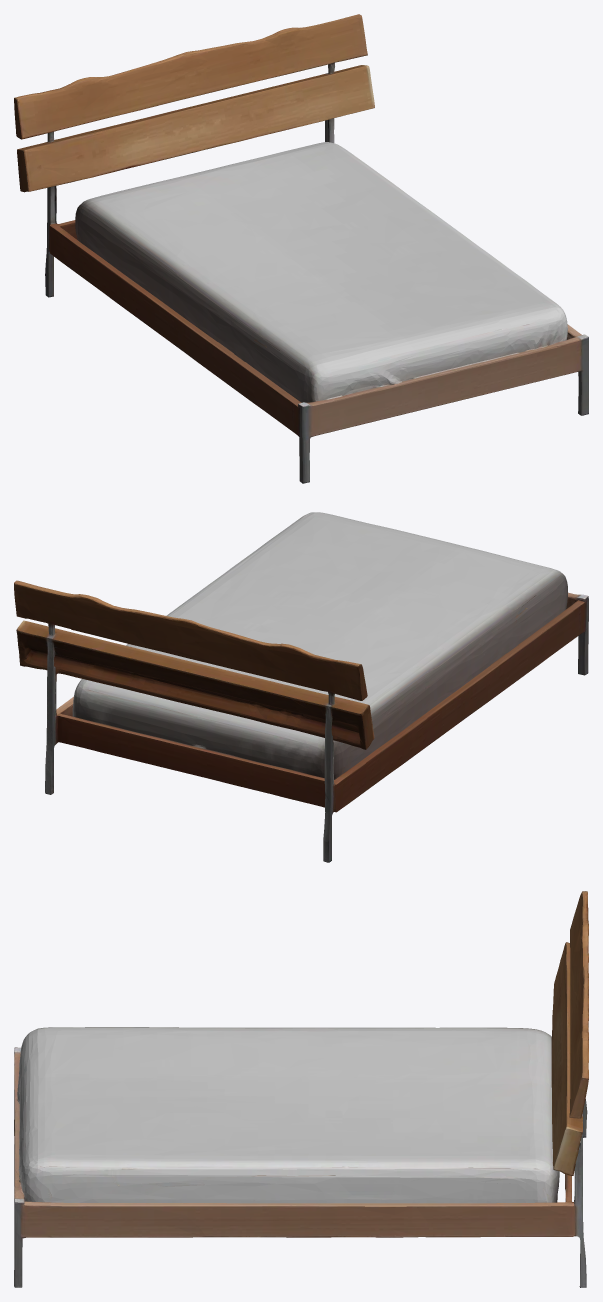
The model's file is 29f24ab5-fdb9-4798-98a1-8d67a72a3853.glb.
The picture shows the model from 3 angles, top to bottom: view 1: azimuth 30°, elevation 25°; view 2: azimuth 150°, elevation 25°; view 3: azimuth 270°, elevation 25°; orthographic projection. The views are drawn at different scales.
Parts seen in each view (by area): view 1: world; view 2: world; view 3: world.
Boxes of the visible parts, box(x1,y1,x2,y2) form: world: box(14, 14, 588, 483); world: box(14, 512, 588, 862); world: box(14, 891, 588, 1287).
Size of the model in its own units: 0.7697 by 0.443 by 1.
1 material, 1 textured.
